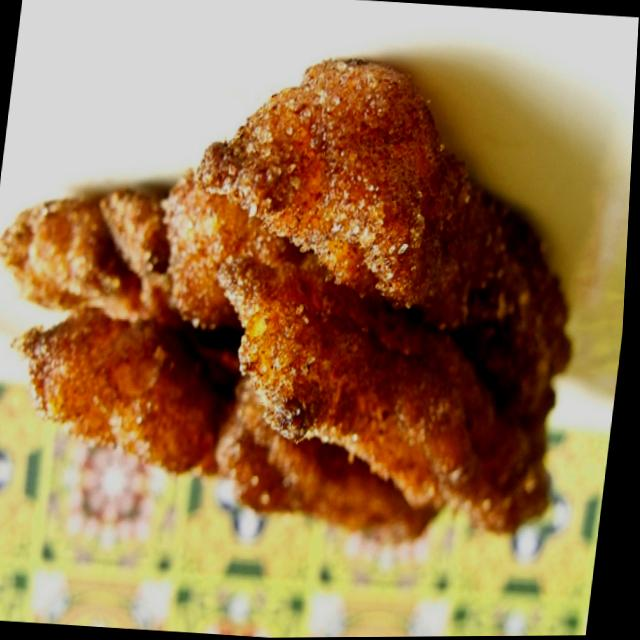炸货点心: (0, 31, 617, 587)
